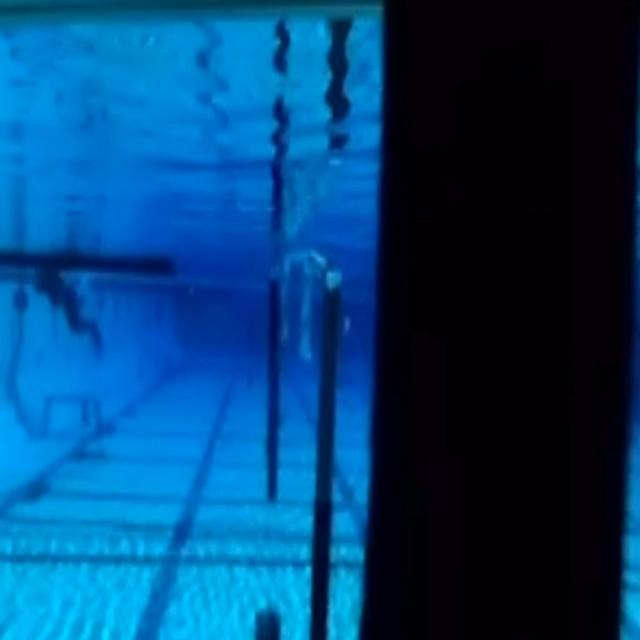Gate: (266, 238, 346, 634)
